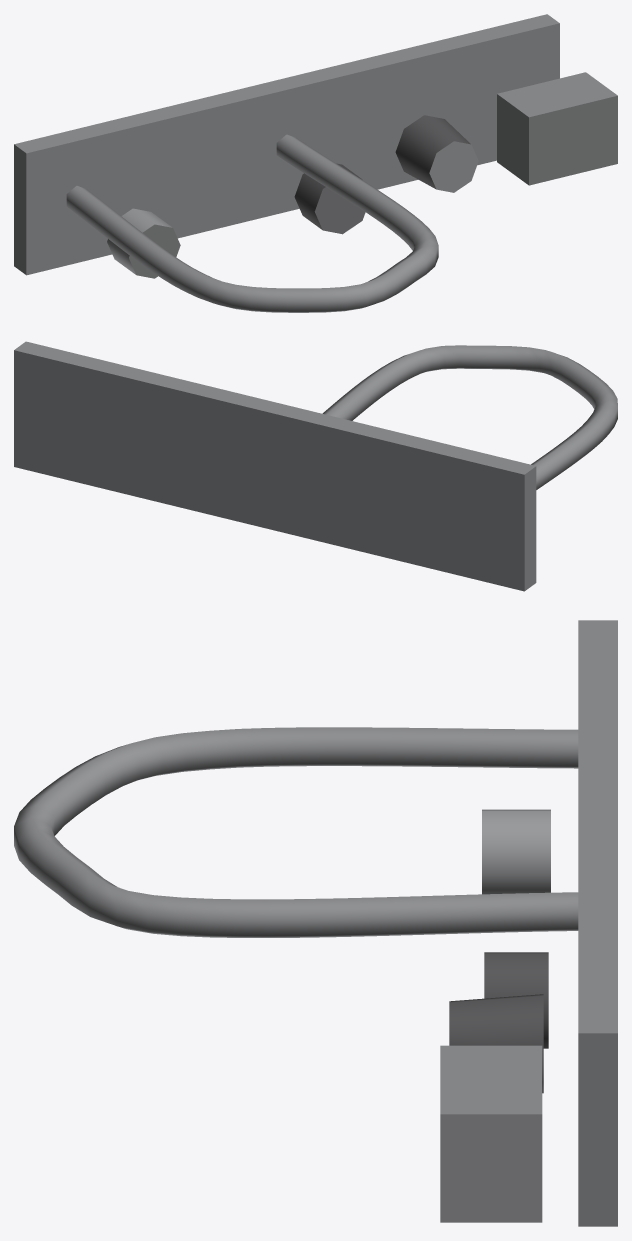
3 views of the same model, one above another, from view 1: azimuth 30°, elevation 25°; view 2: azimuth 150°, elevation 25°; view 3: azimuth 270°, elevation 25° (orthographic). The views are drawn at different scales.
Size of the model in its own units: 0.7983 by 0.1797 by 0.4805.
